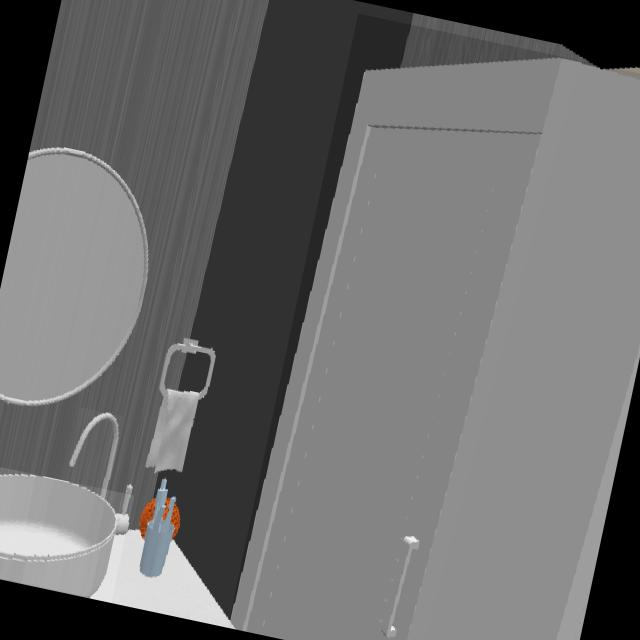shower: (230, 56, 640, 640)
washbasin: (0, 476, 129, 596), (68, 412, 118, 492)
